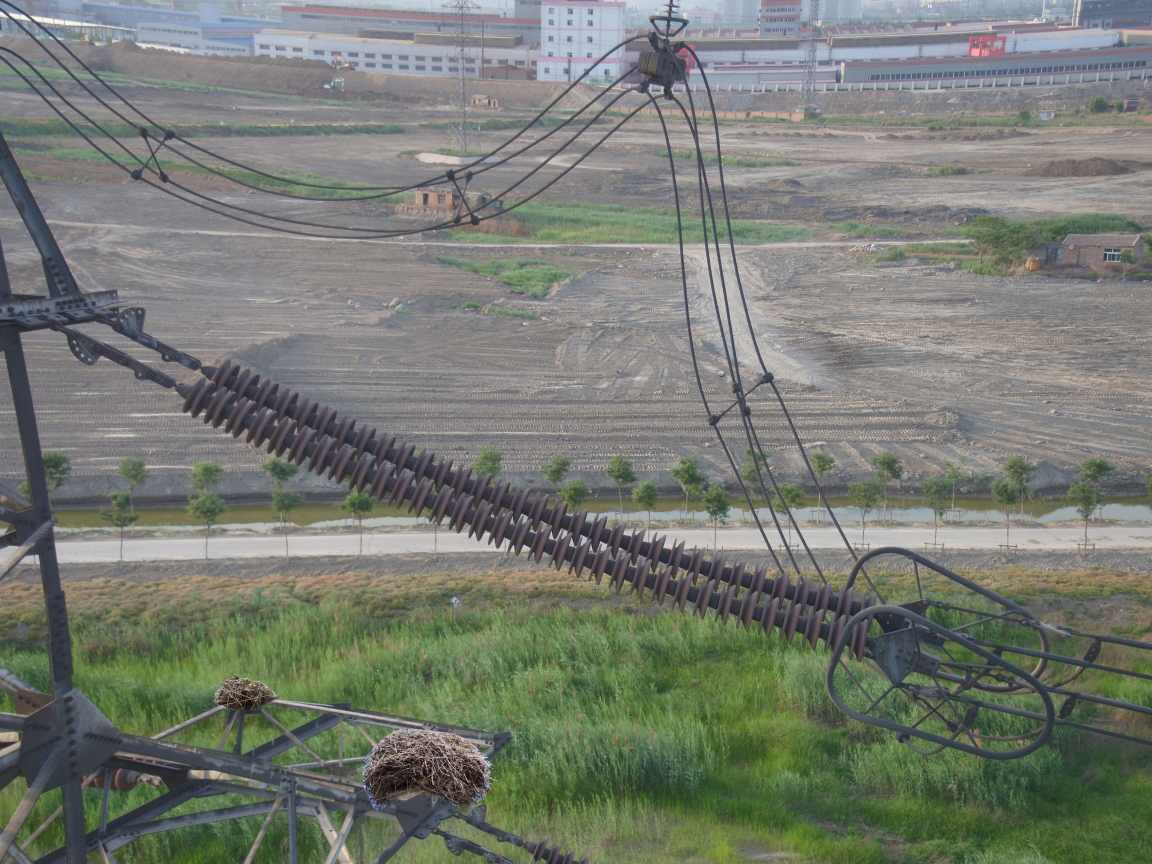nest: (352, 718, 493, 812), (207, 672, 281, 715)
